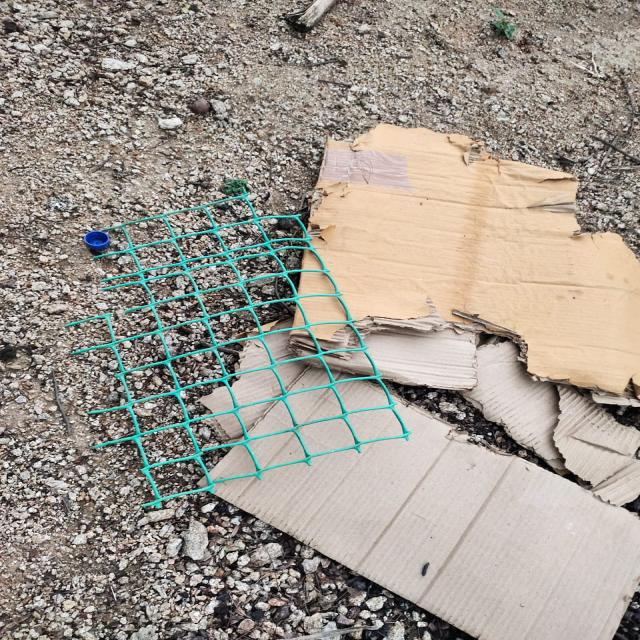metal: (107, 256, 319, 479)
paper: (362, 122, 628, 333), (318, 489, 628, 636)
plastic: (83, 222, 117, 254)
